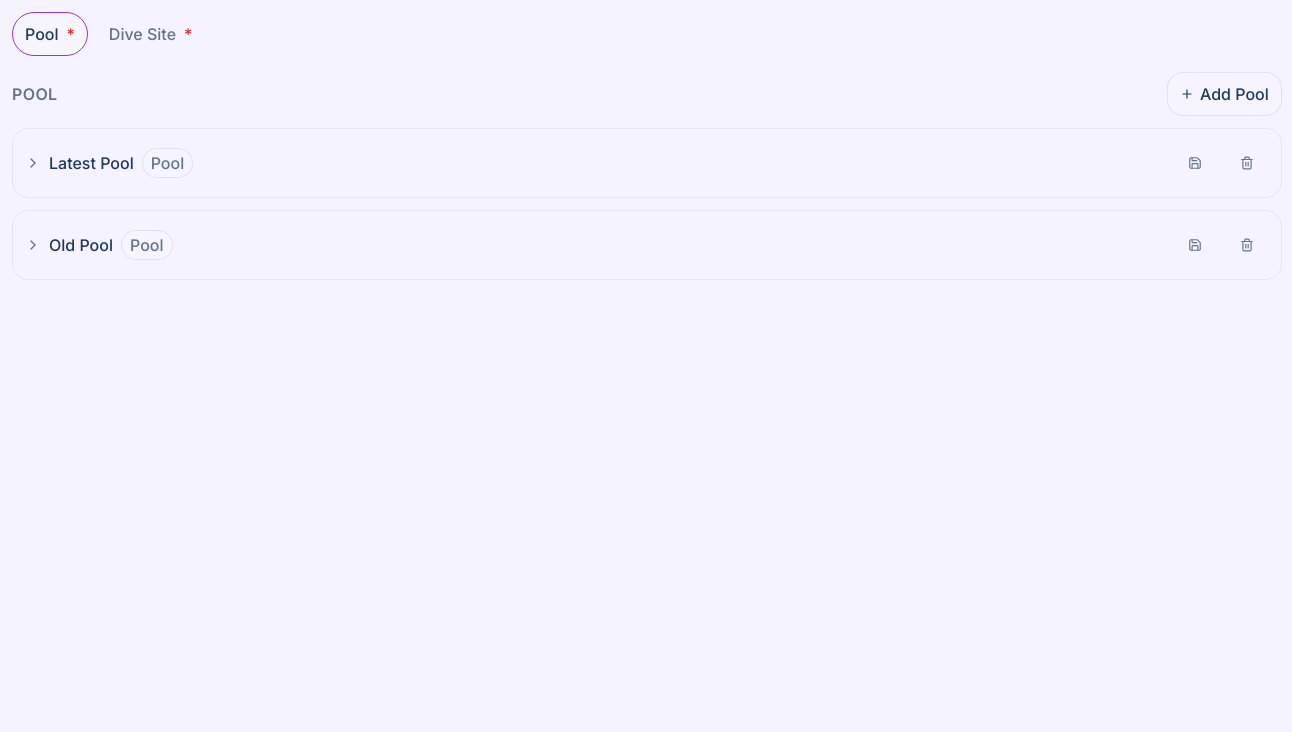
Scenario: VenueCapabilitiesSection — remediation: draft inheritance precedence › latest same-kind row inherits email/phone/location into a new pool draft (name not copied)
Click the button "Add Pool" at (1225,94), box [1167,72,1282,116]
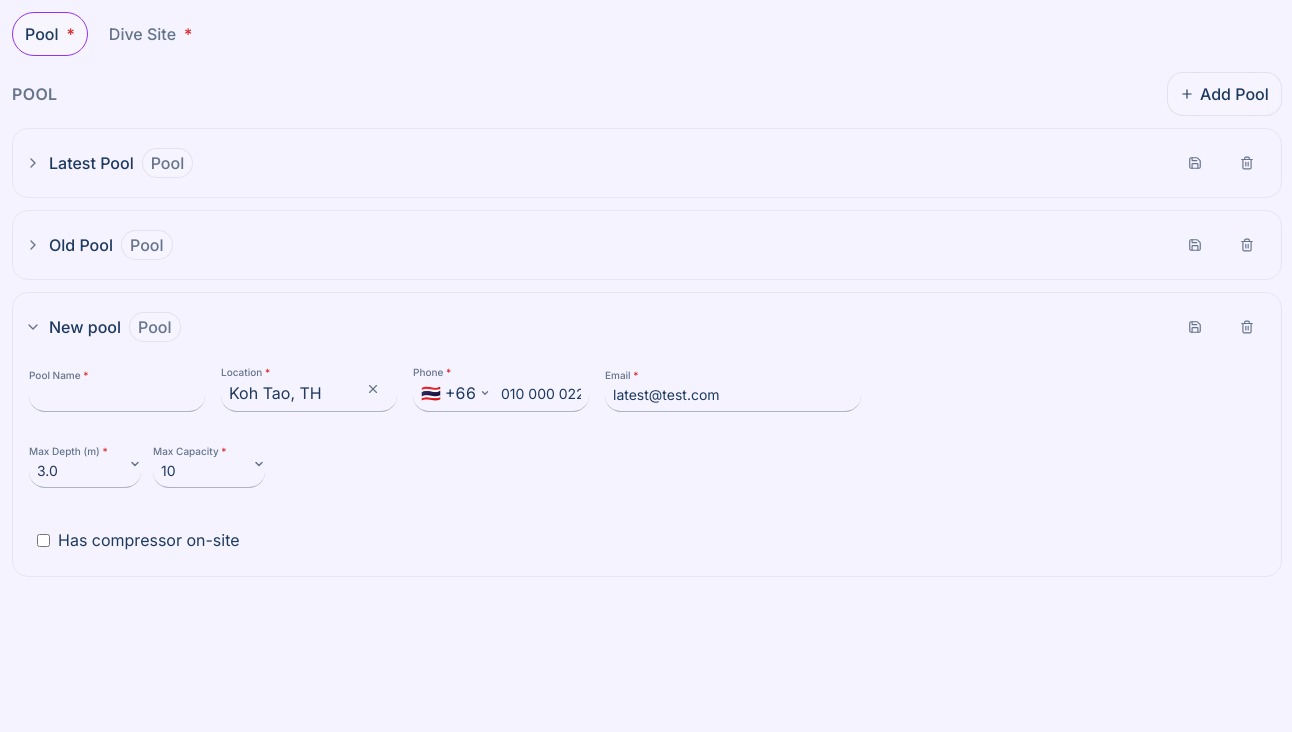
Check: the field labelled "Pool Name *" is empty, box [29,368,205,412]
Check: the field labelled "Email *" holds "latest@test.com", box [605,368,861,412]
Check: the field labelled "Phone *" is not empty, box [501,382,581,404]
